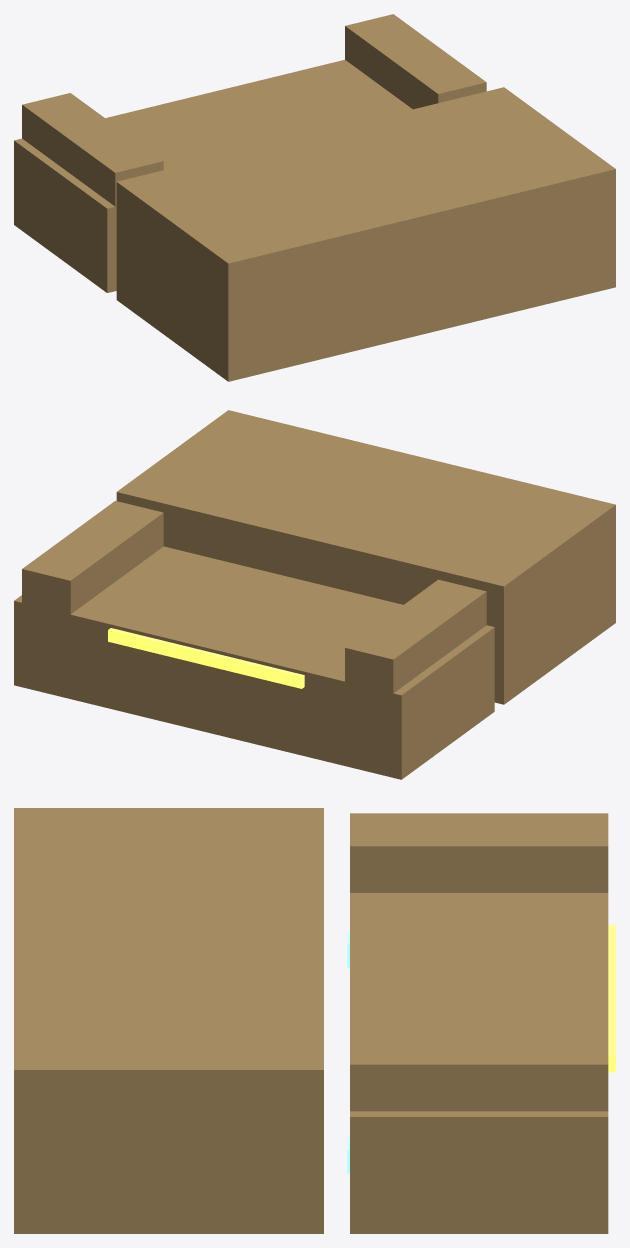
Rendered from logistics_hub_lod1-6SNIpxRj.glb.
3 views of the same model, one above another, from view 1: azimuth 30°, elevation 25°; view 2: azimuth 150°, elevation 25°; view 3: azimuth 270°, elevation 25° (orthographic). The views are drawn at different scales.
Parts seen in each view (by area): view 1: body; view 2: body, sign; view 3: body, sign.
Boxes of the visible parts, bbox=[...] form: body: bbox=[14, 14, 615, 381]; body: bbox=[14, 410, 615, 779]; sign: bbox=[108, 628, 304, 688]; body: bbox=[14, 808, 608, 1233]; sign: bbox=[608, 925, 615, 1072].
Size of the model in its own units: 0.96 by 0.28 by 0.932.
